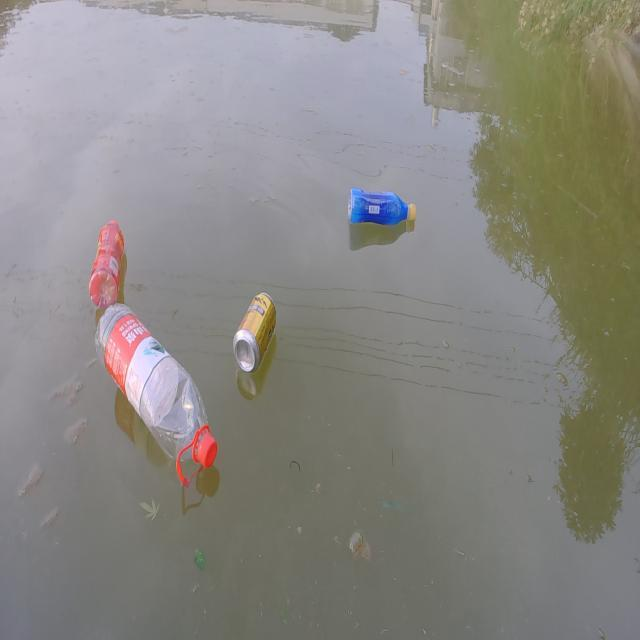garbage: (94, 300, 218, 480), (232, 291, 276, 374), (88, 218, 124, 308), (347, 186, 417, 226)
